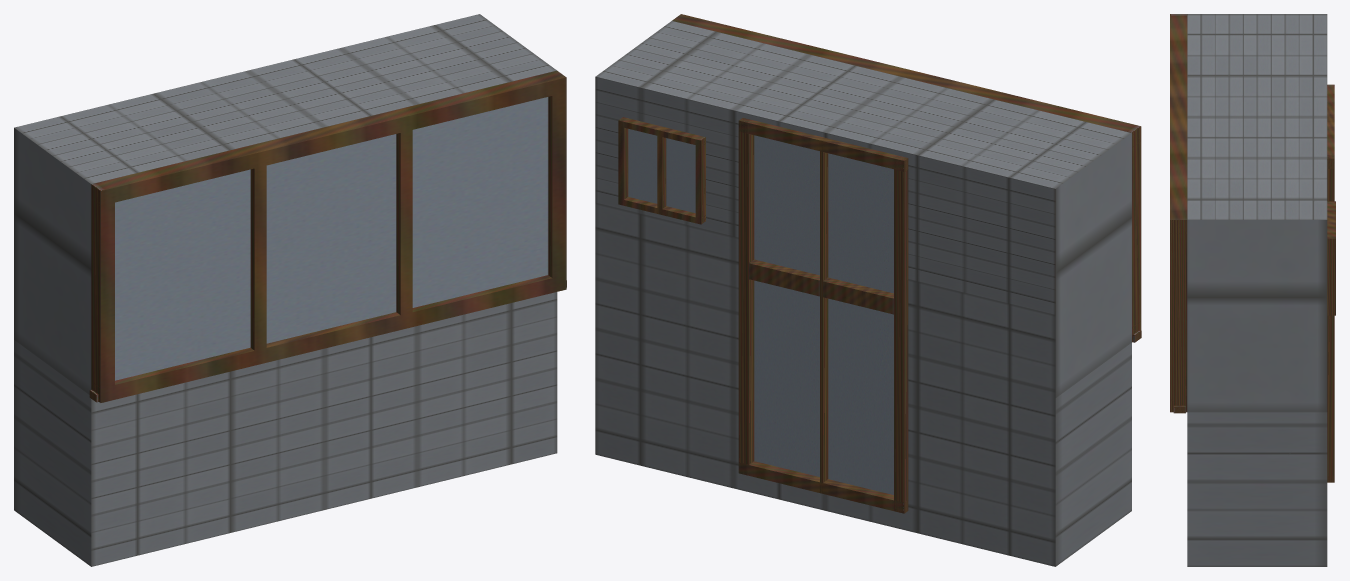
Rendered from balcony.obj.
3 renders of one model, left to right at view 1: azimuth 30°, elevation 25°; view 2: azimuth 150°, elevation 25°; view 3: azimuth 270°, elevation 25°, orthographic. The views are drawn at different scales.
Size of the model in its own units: 4.04 by 3.14 by 1.36.
